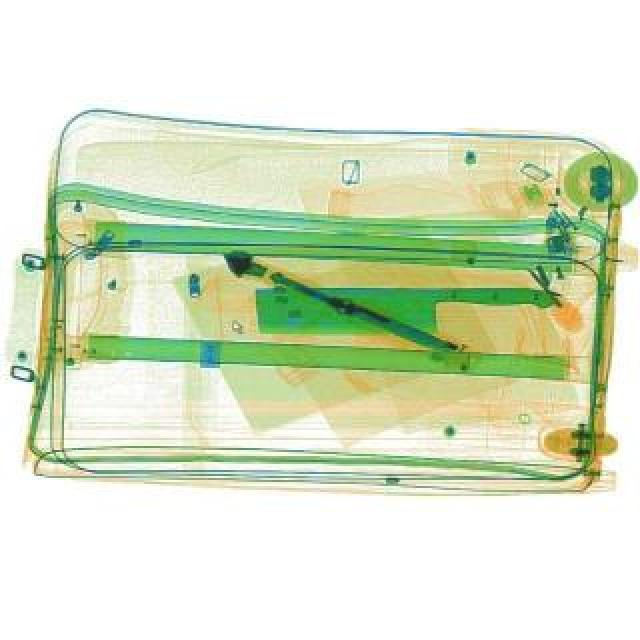knife: (266, 268, 460, 360), (254, 284, 554, 338)
